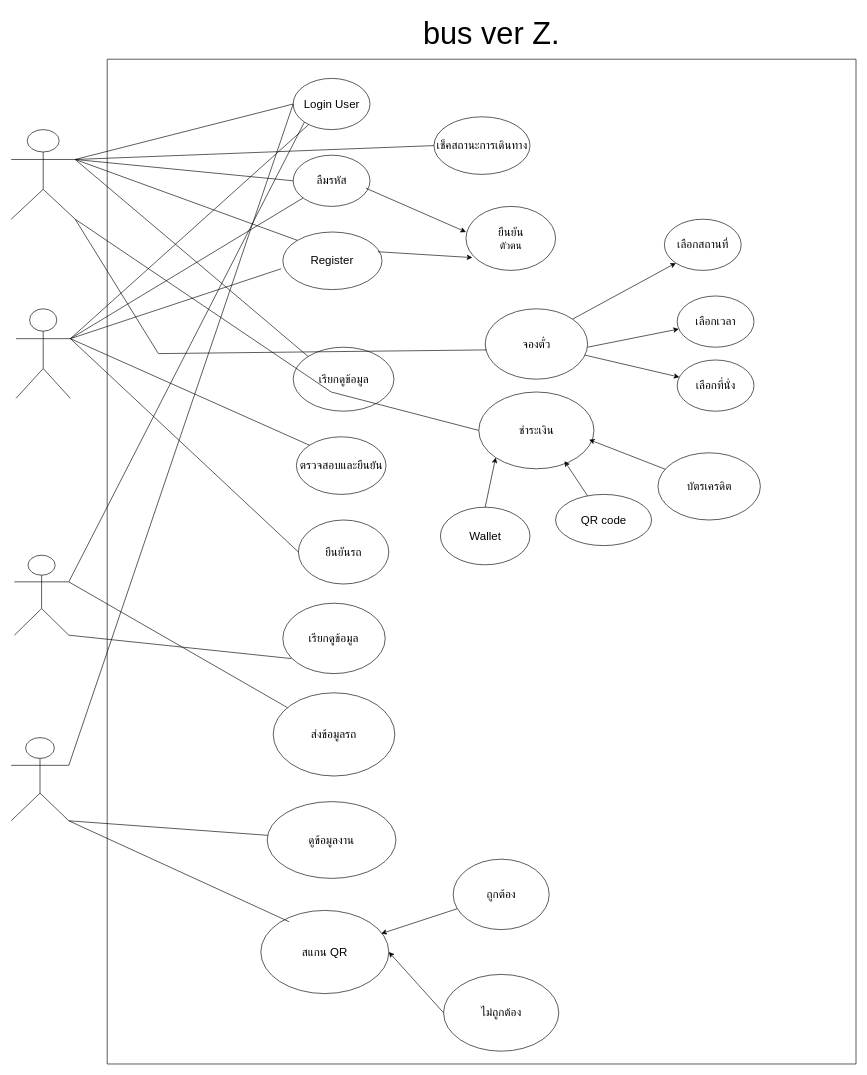
Some shapes in this 867 by 1075 pixel diagram are drawn without their labels. The centre of each missing label's shape, as x and y in pixels:
"Driver" goes at [40,779].
"User" goes at [43,174].
"ผู้ขายTicket" goes at [42,353].
"ฝ่ายจัดการรถ" goes at [41,595].
